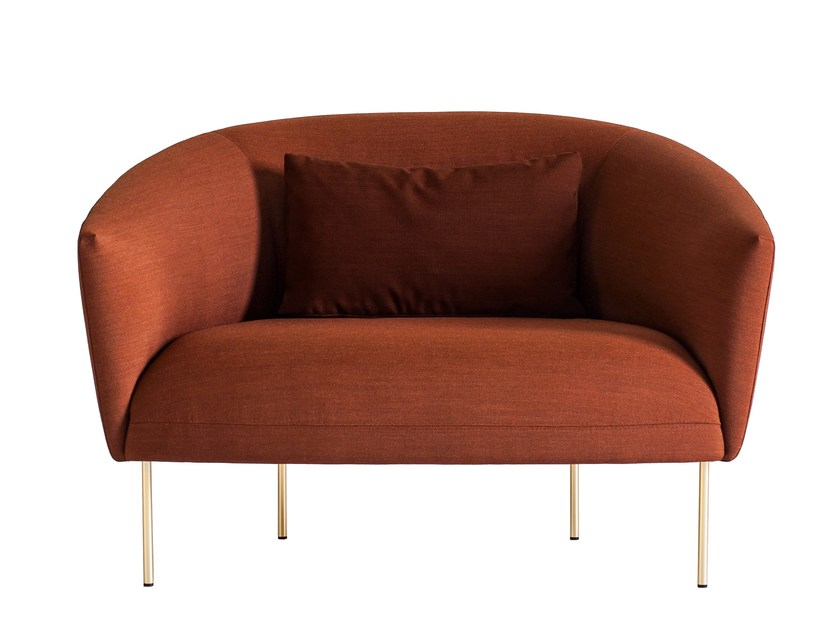chairs: (51, 109, 781, 597)
